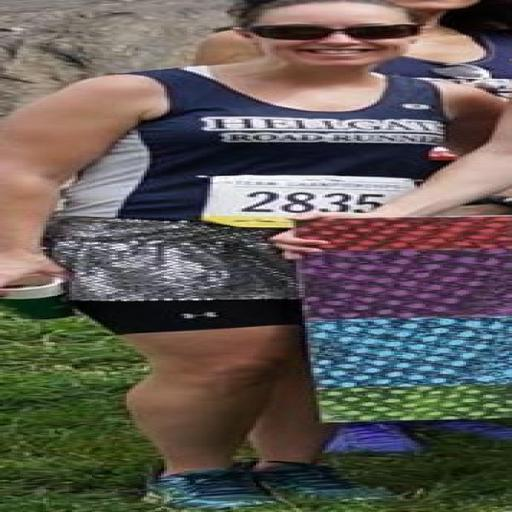person: (0, 0, 503, 509), (377, 0, 511, 97)
